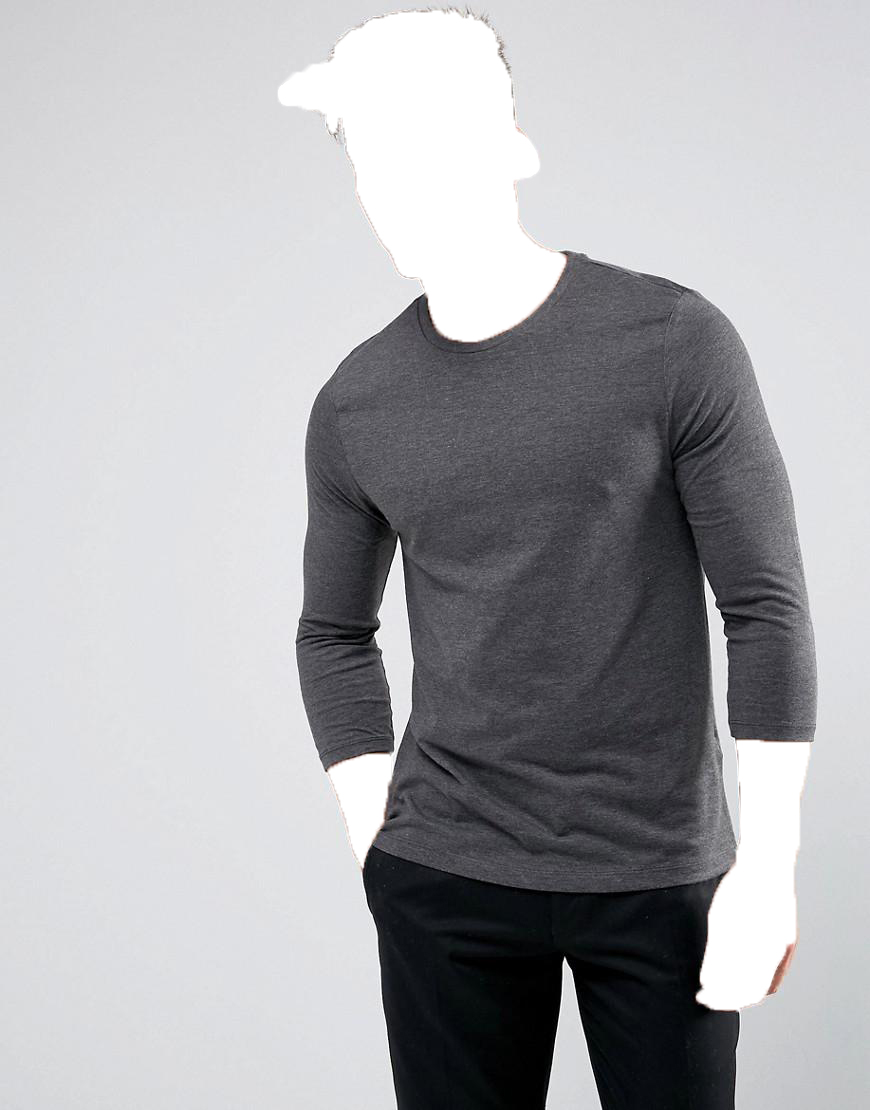teeshirt: (266, 252, 832, 900)
